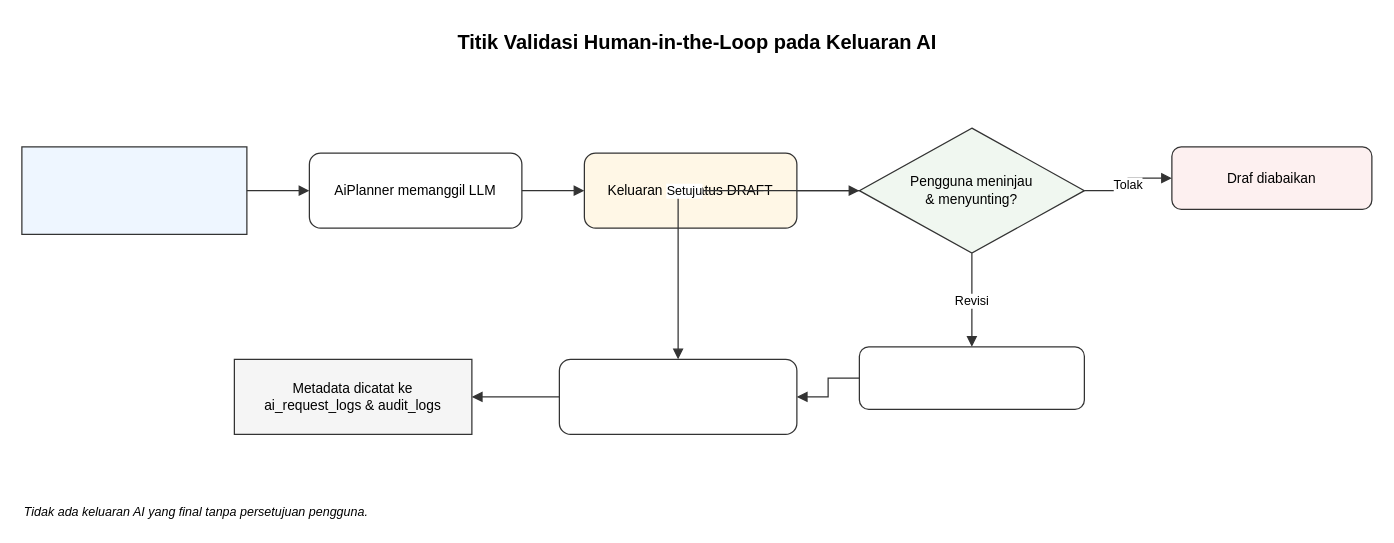
Some shapes in this 1394 by 543 pixel diagram are drawn without their labels. The shapes that lost their labels are listed below. From the top down, each one's box as (x1, y1, x2, y2) in pixels, then its label:
(21, 146, 247, 234): Input pengguna (MoM / konteks proyek / konteks client)
(558, 358, 797, 434): Simpan / terapkan oleh pengguna
(858, 346, 1084, 409): Pengguna mengedit manual
